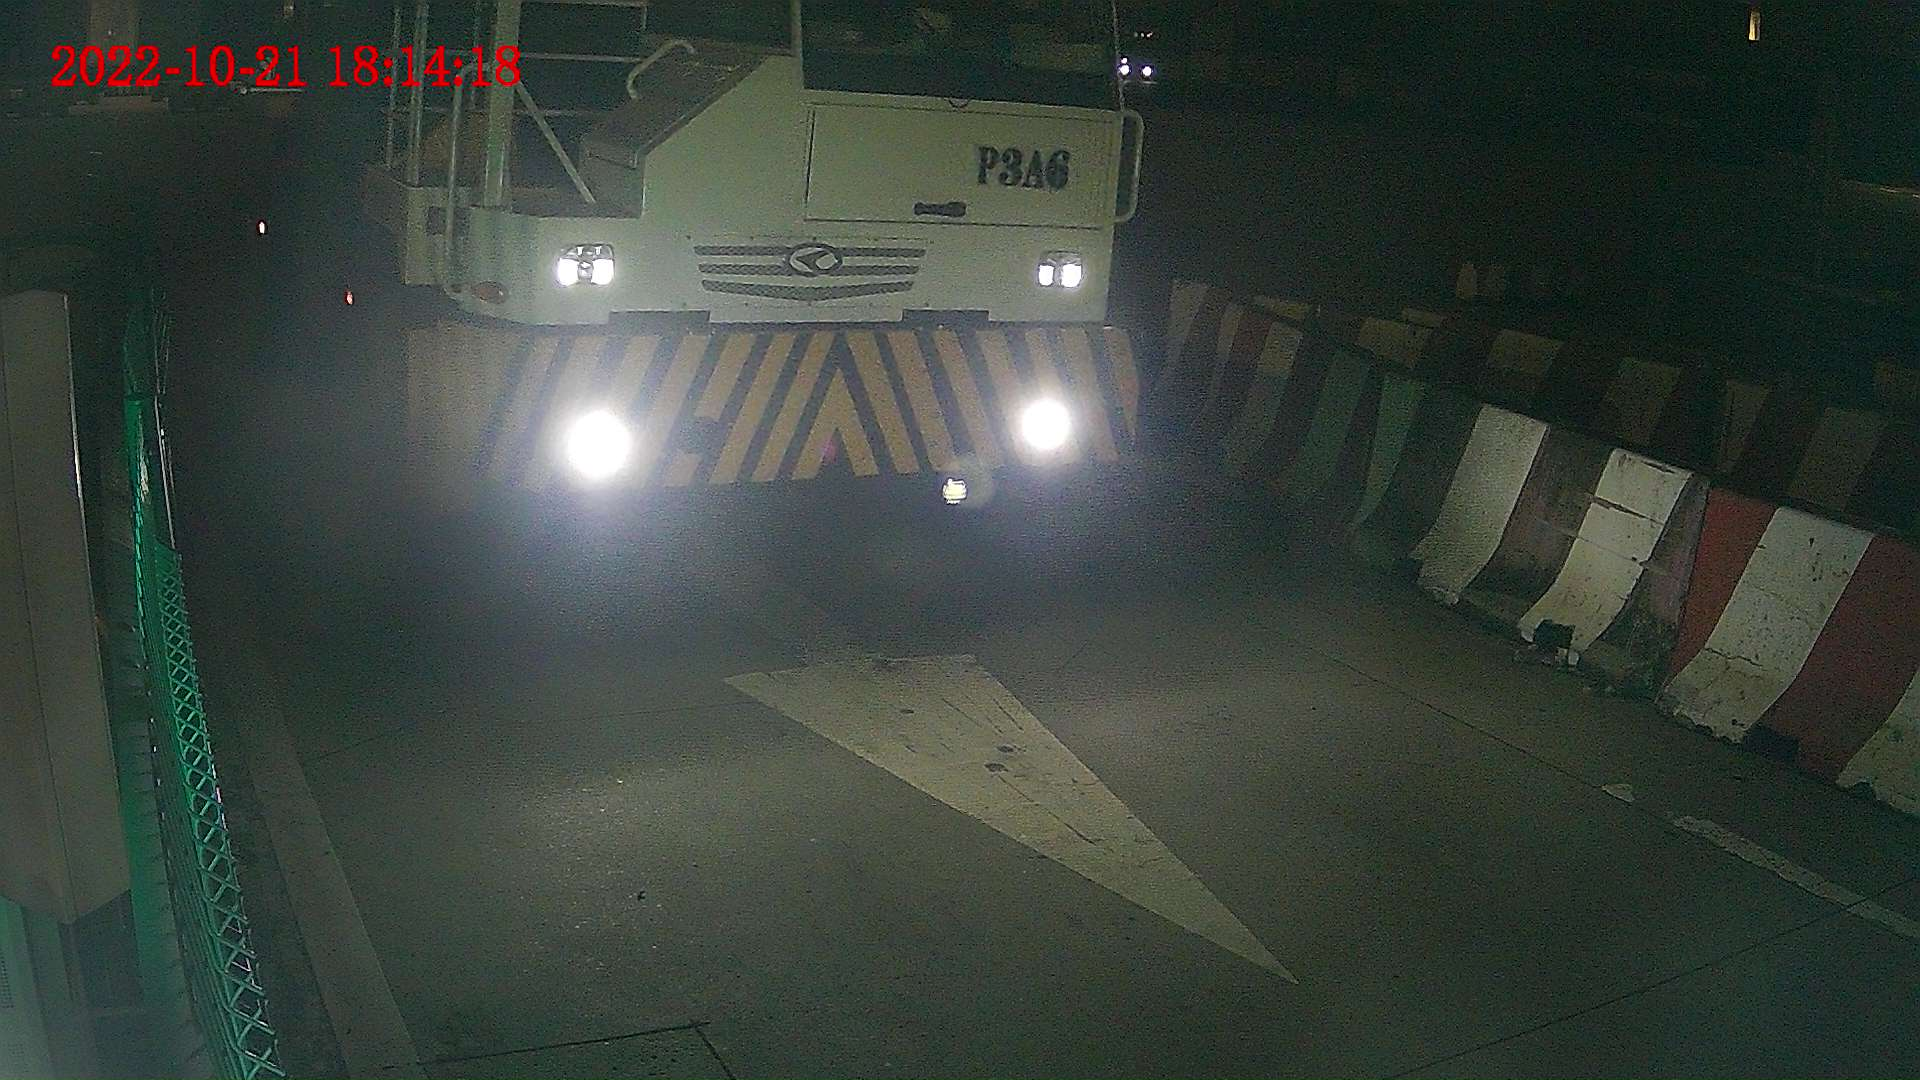head: (296, 1, 1147, 542)
